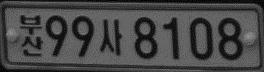0: (189, 16, 214, 61)
1: (161, 17, 185, 59)
8: (217, 16, 243, 60), (133, 16, 158, 58)
9: (45, 14, 68, 57), (71, 15, 94, 57)
부산_V: (19, 14, 43, 56)
사: (99, 18, 123, 55)
